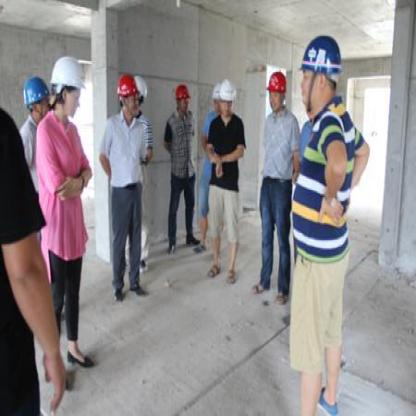helmet: (297, 36, 343, 122), (48, 50, 87, 119), (18, 70, 49, 120), (115, 72, 143, 119), (266, 68, 288, 111), (214, 78, 238, 116), (172, 82, 191, 118), (134, 72, 148, 119)
